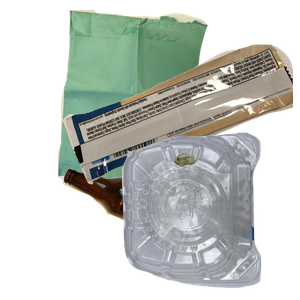glass: (60, 166, 241, 300)
paper: (55, 10, 255, 190)
plastic: (119, 130, 300, 300)
trash: (60, 42, 300, 219)
